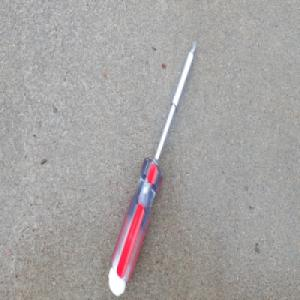Screwdriver: (107, 37, 197, 297)
